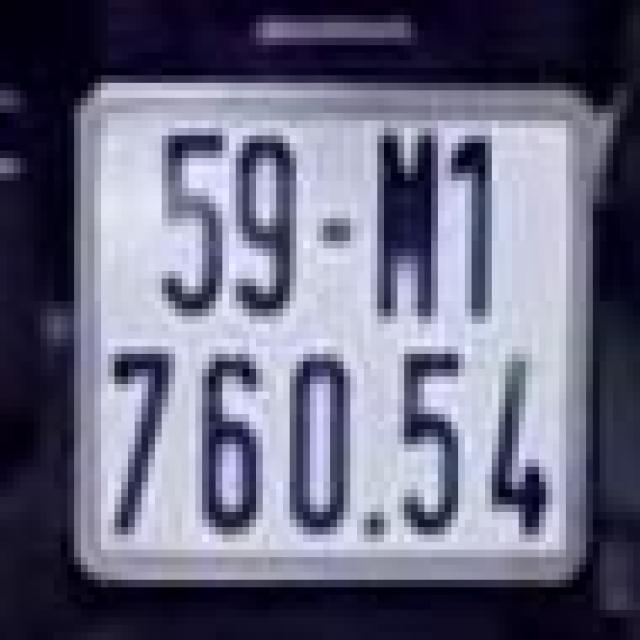0: (280, 346, 360, 534)
1: (434, 105, 508, 309)
4: (468, 338, 563, 534)
5: (138, 120, 233, 324), (391, 350, 472, 538)
6: (202, 335, 263, 538)
7: (108, 342, 188, 530)
9: (226, 116, 306, 312)
M: (360, 113, 434, 316)
